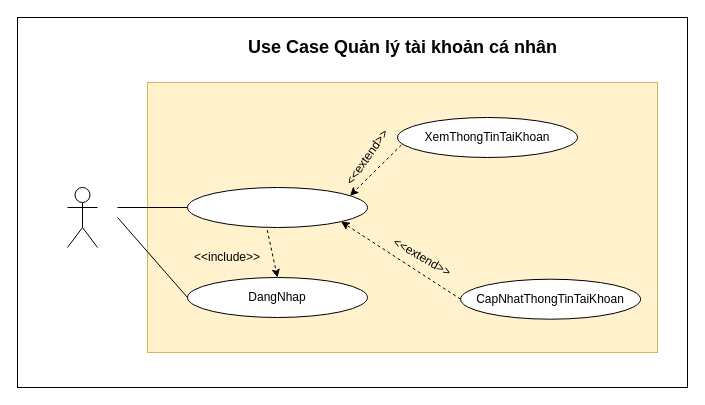
Some shapes in this 705 by 405 pixel diagram are drawn without their labels. The shapes that lost their labels are listed below. From the top down, each one's centre as x and y in pixels, then its label:
pixel 82 217: KhachHang
pixel 277 207: QuanLyTaiKhoanCaNhan
